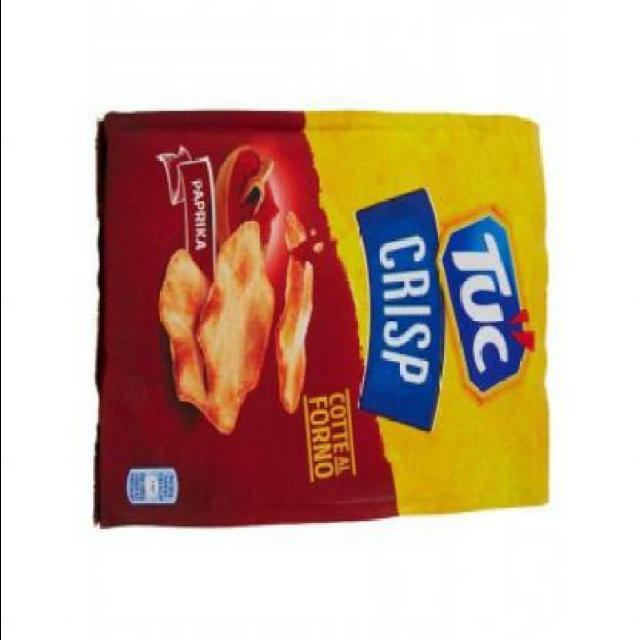Cracker: (80, 104, 544, 534)
